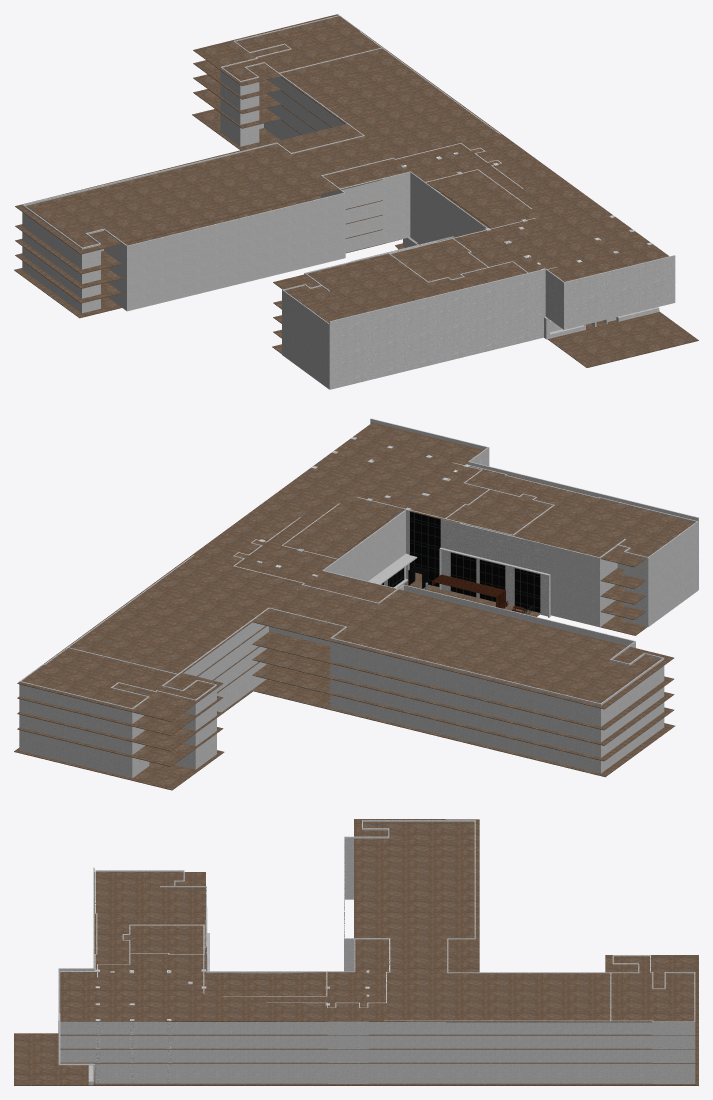
The model's file is Main Hub Texturas.fbx.
3 views of the same model, one above another, from view 1: azimuth 30°, elevation 25°; view 2: azimuth 150°, elevation 25°; view 3: azimuth 270°, elevation 25° (orthographic). The views are drawn at different scales.
Visible parts, largest first — view 1: Techo, Entrada, ParedesPiso4, ParedesPiso1, ParedesPiso3, ParedesPiso2, SueloPiso1, SueloPiso4, SueloPiso3, SueloPiso2; view 2: Techo, ParedesPiso4, ParedesPiso1, ParedesPiso3, ParedesPiso2, SueloPiso1, Plane.004, SueloPiso4, SueloPiso3, SueloPiso2, Entrada, Plane.002 (+4 smaller); view 3: Techo, ParedesPiso4, ParedesPiso1, ParedesPiso3, ParedesPiso2, SueloPiso1, SueloPiso4, SueloPiso3, SueloPiso2, Entrada.
Boxes of the visible parts, bbox=[...] form: Techo: bbox=[15, 14, 668, 322]; Entrada: bbox=[329, 255, 675, 389]; ParedesPiso4: bbox=[22, 15, 557, 338]; ParedesPiso1: bbox=[22, 113, 607, 388]; ParedesPiso3: bbox=[22, 84, 472, 352]; ParedesPiso2: bbox=[22, 98, 457, 367]; SueloPiso1: bbox=[14, 109, 698, 367]; SueloPiso4: bbox=[15, 60, 490, 309]; SueloPiso3: bbox=[15, 74, 382, 323]; SueloPiso2: bbox=[15, 89, 382, 338]; Techo: bbox=[17, 422, 695, 721]; ParedesPiso4: bbox=[19, 462, 698, 723]; ParedesPiso1: bbox=[19, 568, 698, 778]; ParedesPiso3: bbox=[19, 526, 698, 739]; ParedesPiso2: bbox=[19, 541, 698, 754]; SueloPiso1: bbox=[14, 573, 674, 790]; Plane.004: bbox=[439, 519, 550, 617]; SueloPiso4: bbox=[17, 520, 673, 735]; SueloPiso3: bbox=[17, 585, 674, 751]; SueloPiso2: bbox=[17, 600, 673, 766]; Entrada: bbox=[370, 418, 698, 589]; Plane.002: bbox=[432, 574, 505, 608]; Techo: bbox=[60, 819, 698, 1022]; ParedesPiso4: bbox=[60, 820, 695, 1035]; ParedesPiso1: bbox=[95, 878, 695, 1083]; ParedesPiso3: bbox=[60, 851, 695, 1049]; ParedesPiso2: bbox=[60, 865, 695, 1062]; SueloPiso1: bbox=[14, 1033, 698, 1085]; SueloPiso4: bbox=[60, 959, 698, 1035]; SueloPiso3: bbox=[60, 1035, 698, 1049]; SueloPiso2: bbox=[60, 1049, 698, 1063]; Entrada: bbox=[58, 867, 95, 1085].
Bounding box in the file's own units: 9516 × 1717 × 13370.
